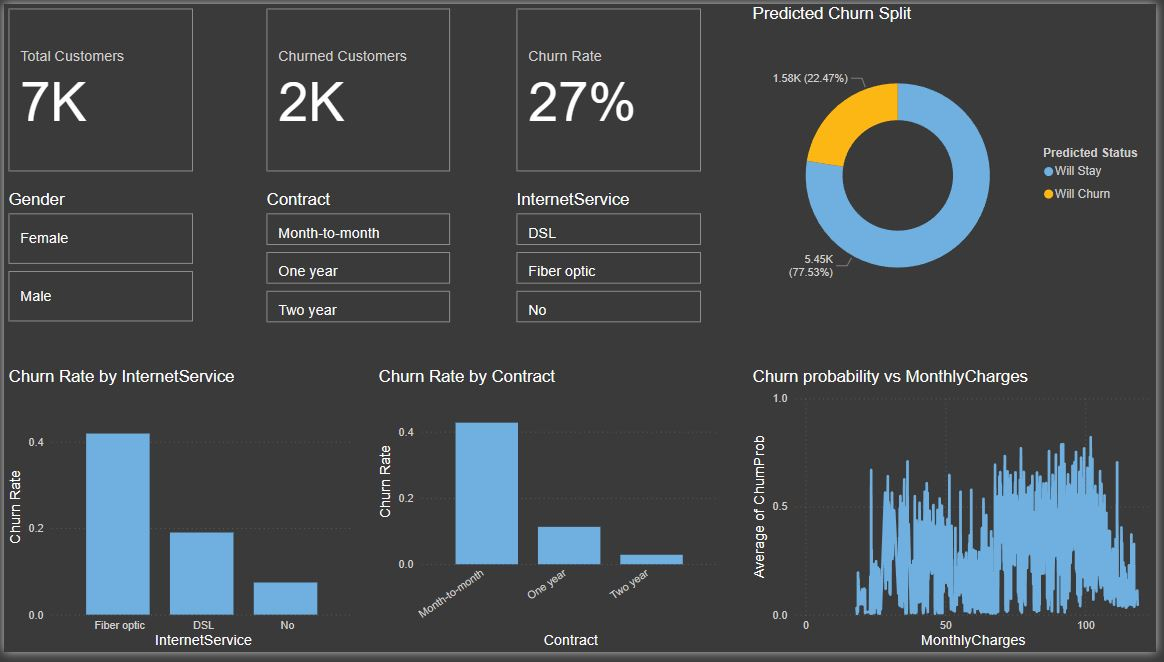

The page's visual inventory and layout, read from the dashboard file:
{"tool":"powerbi","page":{"name":"Executive Summary","canvas":[1280,720],"ordinal":0},"visuals":[{"type":"cardVisual","fields":{"Data":["telco_churn_clean.Total Customers"]},"box":[0,0,215.7,191.4],"z":0},{"type":"cardVisual","title":"Actual Churners","fields":{"Data":["telco_churn_clean.Churned Customers"]},"box":[287.1,0,214.3,191.4],"z":1},{"type":"cardVisual","fields":{"Data":["telco_churn_clean.Churn Rate"]},"box":[564.3,0,215.7,191.4],"z":2},{"type":"clusteredColumnChart","fields":{"Category":["telco_churn_clean.Contract"],"Y":["telco_churn_clean.Churn Rate"]},"box":[411.4,402.9,388.6,317.1],"z":3},{"type":"clusteredColumnChart","fields":{"Category":["telco_churn_clean.InternetService"],"Y":["telco_churn_clean.Churn Rate"]},"box":[0,402.9,394.3,317.1],"z":4},{"type":"lineChart","title":"Churn probability vs MonthlyCharges","fields":{"Category":["telco_churn_clean.MonthlyCharges"],"Y":["Avg(telco_churn_clean.ChurnProb)"]},"box":[827.1,402.9,452.9,317.1],"z":5},{"type":"donutChart","title":"Predicted Churn Split","fields":{"Y":["CountNonNull(telco_churn_clean.customerID)"],"Category":["telco_churn_clean.Predicted Status"]},"box":[827.1,0,452.9,360],"z":6},{"type":"advancedSlicerVisual","fields":{"Values":["telco_churn_clean.Contract"]},"box":[287.1,207.1,214.3,152.9],"z":7},{"type":"advancedSlicerVisual","fields":{"Values":["telco_churn_clean.InternetService"]},"box":[564.3,207.1,215.7,152.9],"z":8},{"type":"advancedSlicerVisual","title":"Gender","fields":{"Values":["telco_churn_clean.gender"]},"box":[0,207.1,215.7,152.9],"z":9}]}

Visuals, with their boxes in screenshot pixels (x1, y1, x2, y2), scaled from the page's 1280x720 canvas onto the 1164x662 screenshot:
cardVisual - telco_churn_clean.Total Customers: bbox=(0, 0, 196, 176)
"Actual Churners" cardVisual: bbox=(261, 0, 456, 176)
cardVisual - telco_churn_clean.Churn Rate: bbox=(513, 0, 709, 176)
clusteredColumnChart - telco_churn_clean.Contract x telco_churn_clean.Churn Rate: bbox=(374, 370, 728, 661)
clusteredColumnChart - telco_churn_clean.InternetService x telco_churn_clean.Churn Rate: bbox=(0, 370, 359, 661)
"Churn probability vs MonthlyCharges" lineChart: bbox=(752, 370, 1163, 661)
"Predicted Churn Split" donutChart: bbox=(752, 0, 1163, 331)
advancedSlicerVisual - telco_churn_clean.Contract: bbox=(261, 190, 456, 331)
advancedSlicerVisual - telco_churn_clean.InternetService: bbox=(513, 190, 709, 331)
"Gender" advancedSlicerVisual: bbox=(0, 190, 196, 331)
